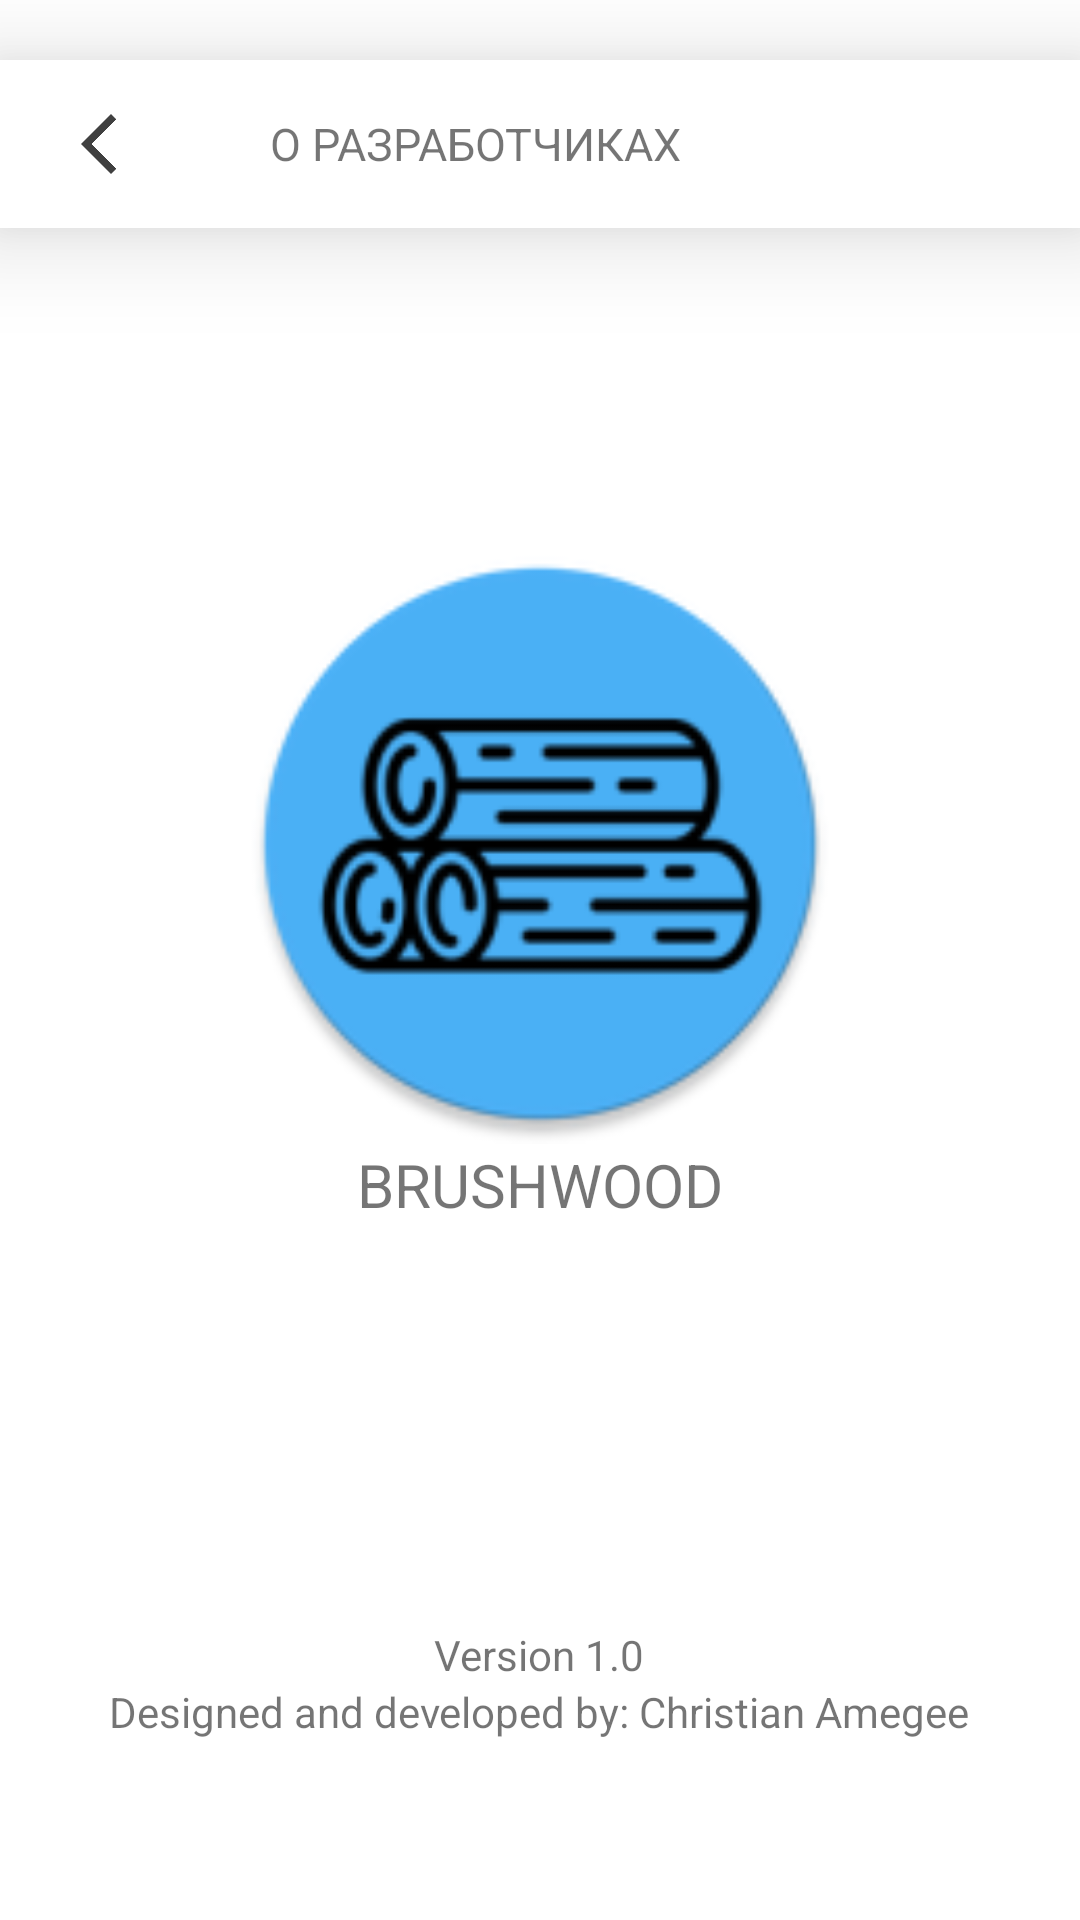

Screen size 1080×1920. Icon name, then its center in pixels as (x=x, y=y):
back arrow: (x=98, y=144)
